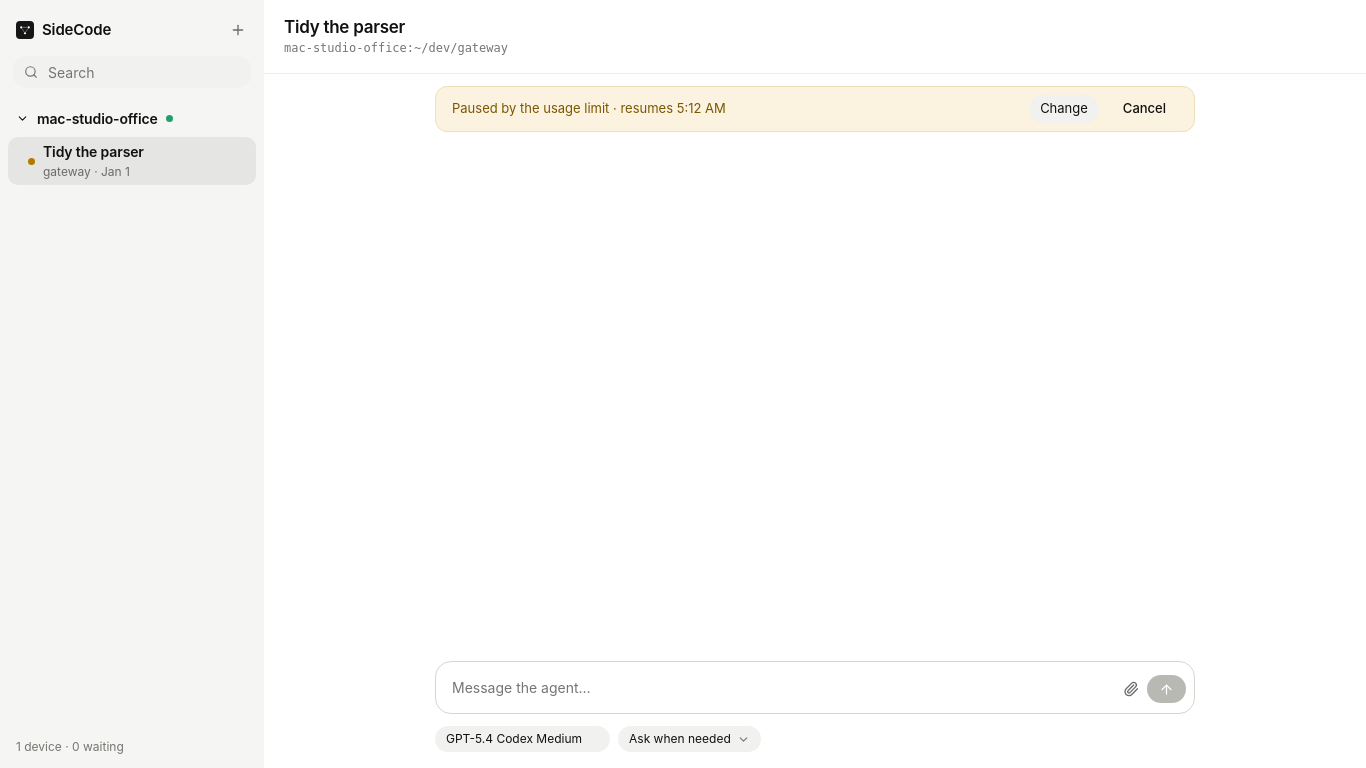
Scenario: the pending resume above the transcript › cancels the resume on the device and keeps what it answered
The image size is (1366, 768).
Click the button "Cancel" at (1144, 109), box [1111,95,1178,123]
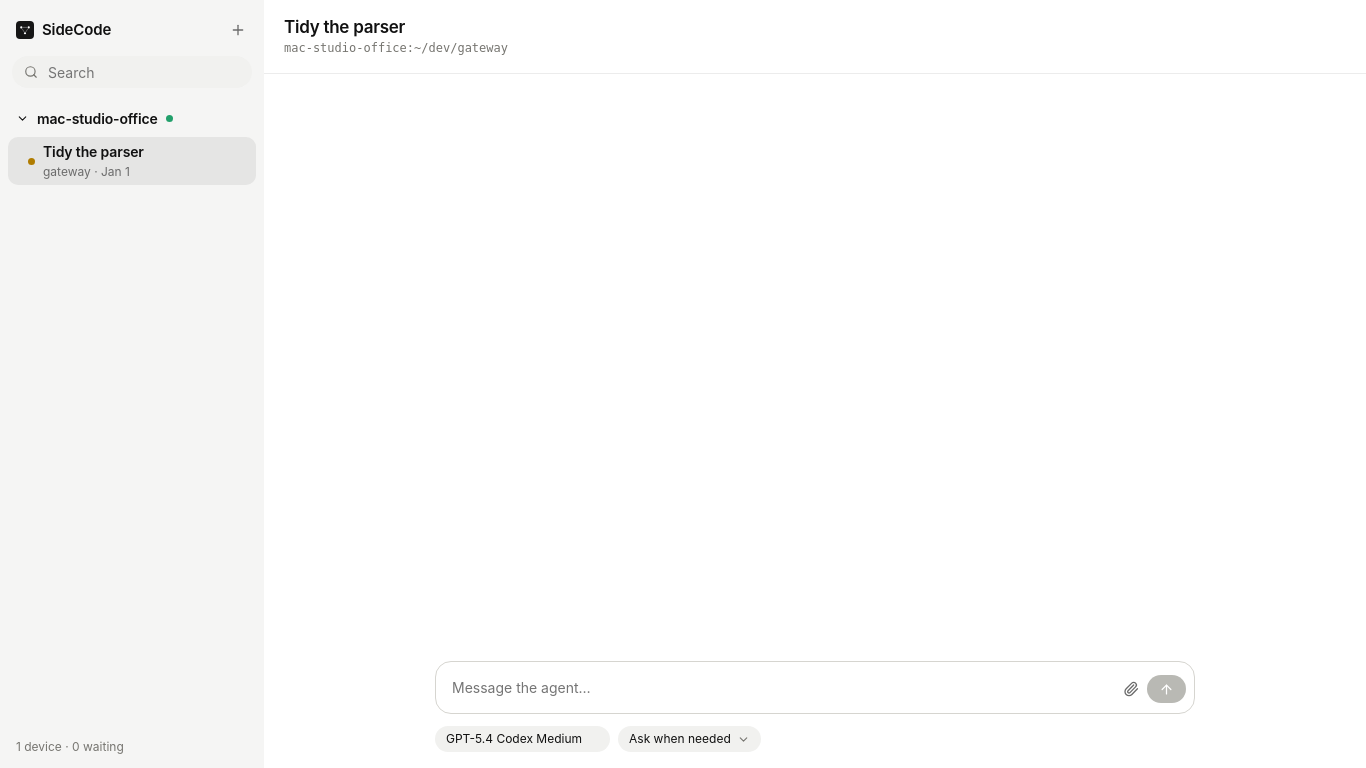
Check: the message with class "resume-notice" is gone
